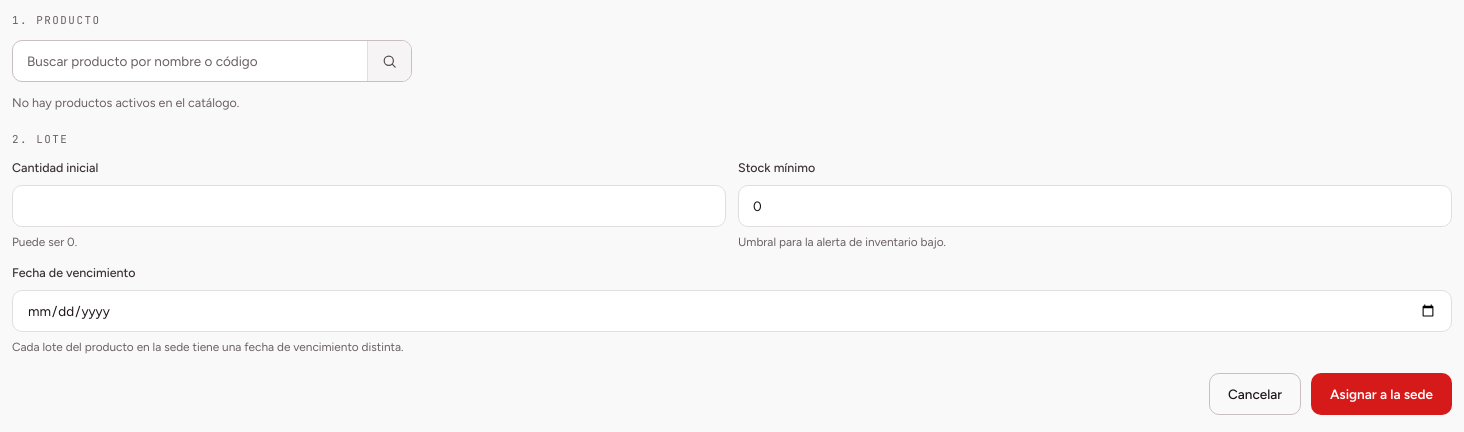
AssignProductForm › says when no active product matches the search
This screenshot has width=1464, height=432.
In the search field named "Buscar producto activo por nombre o código": (190, 61) [13, 41, 367, 81], type "zzz"
Then press Enter
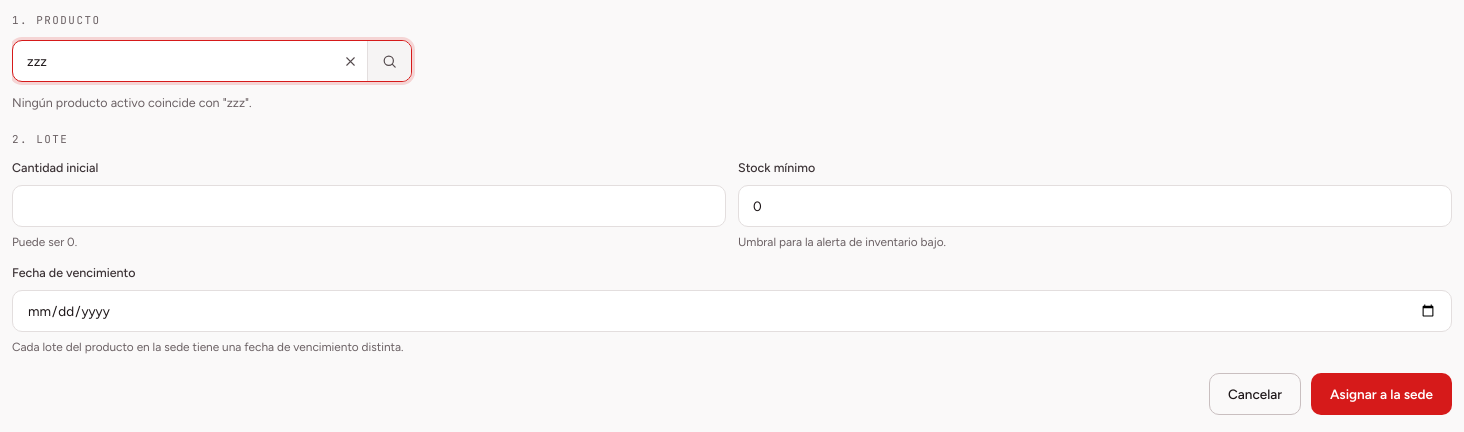
expect the text "Ningún producto activo coincide con \"zzz\"." is shown: met, box [12, 95, 252, 110]
